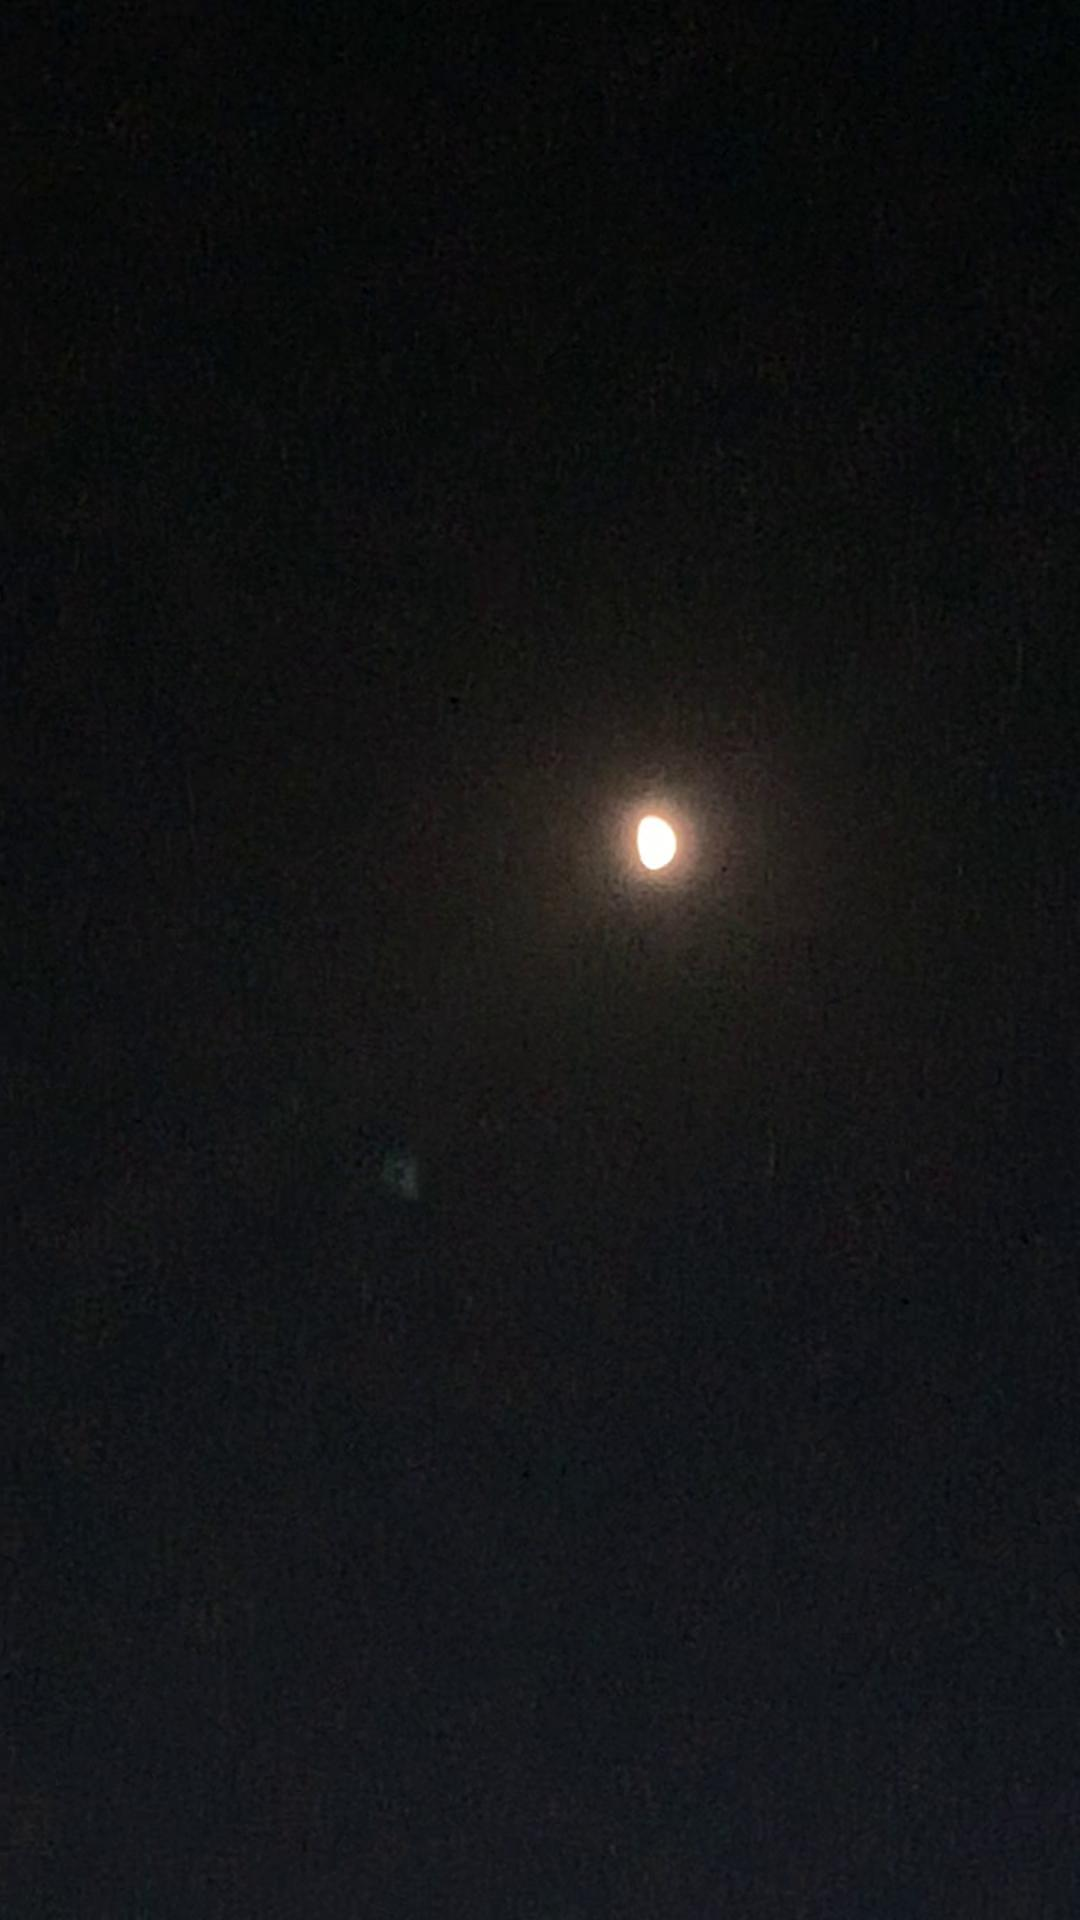moon: (604, 782, 695, 880)
